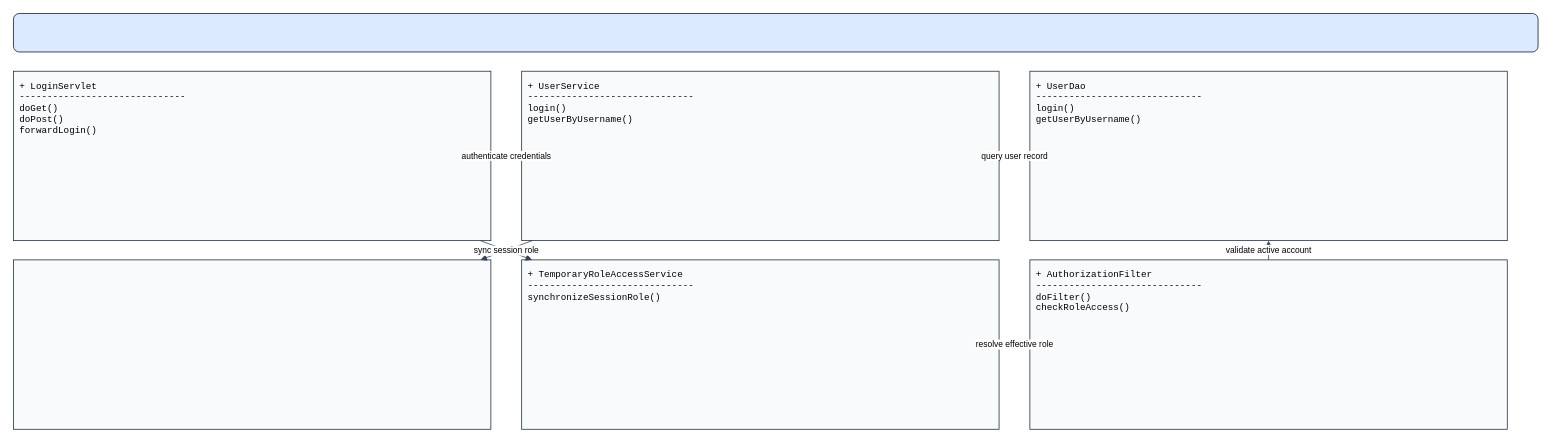
Image size: 1552x443. Some labels were removed from this diagram. Here are the shapes that lost their labels. From the top down, the box of each, then its label:
(13, 13, 1538, 52): Class Diagram - Login and Auth
(13, 259, 491, 429): + PasswordUtil ------------------------------ sha256()
